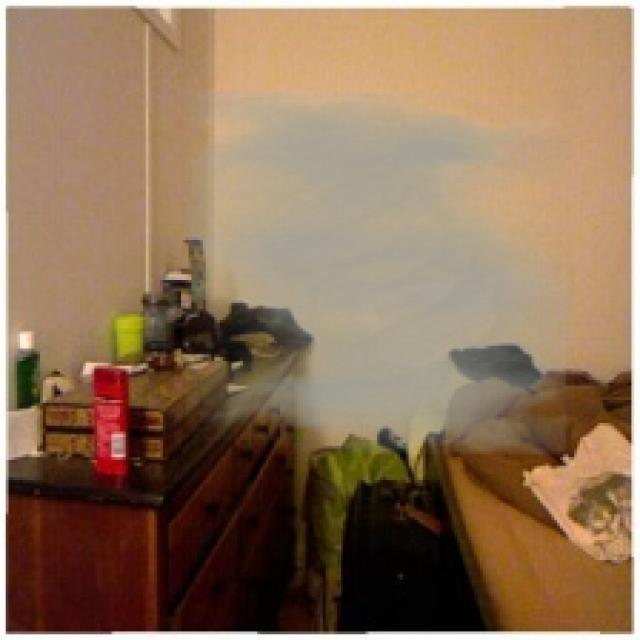smoke: (186, 89, 574, 454)
